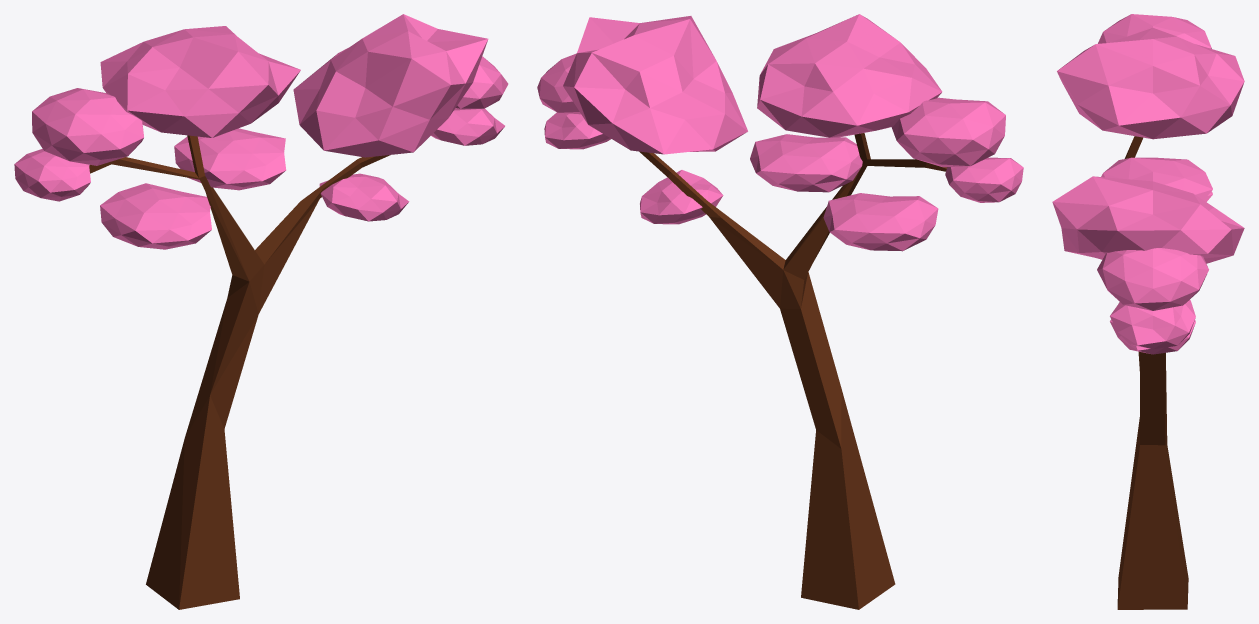
Rendered from Tree_02.fbx.
3 views of the same model, side by side, from view 1: azimuth 30°, elevation 25°; view 2: azimuth 150°, elevation 25°; view 3: azimuth 270°, elevation 25° (orthographic).
Visible parts, largest first — view 1: Plane; view 2: Plane; view 3: Plane.
Part boxes in pixels (x1,y1,x2,y2): Plane: (14, 14, 508, 609); Plane: (537, 14, 1023, 609); Plane: (1052, 14, 1244, 609).
Bounding box in the file's own units: 253 × 282 × 87.97.
